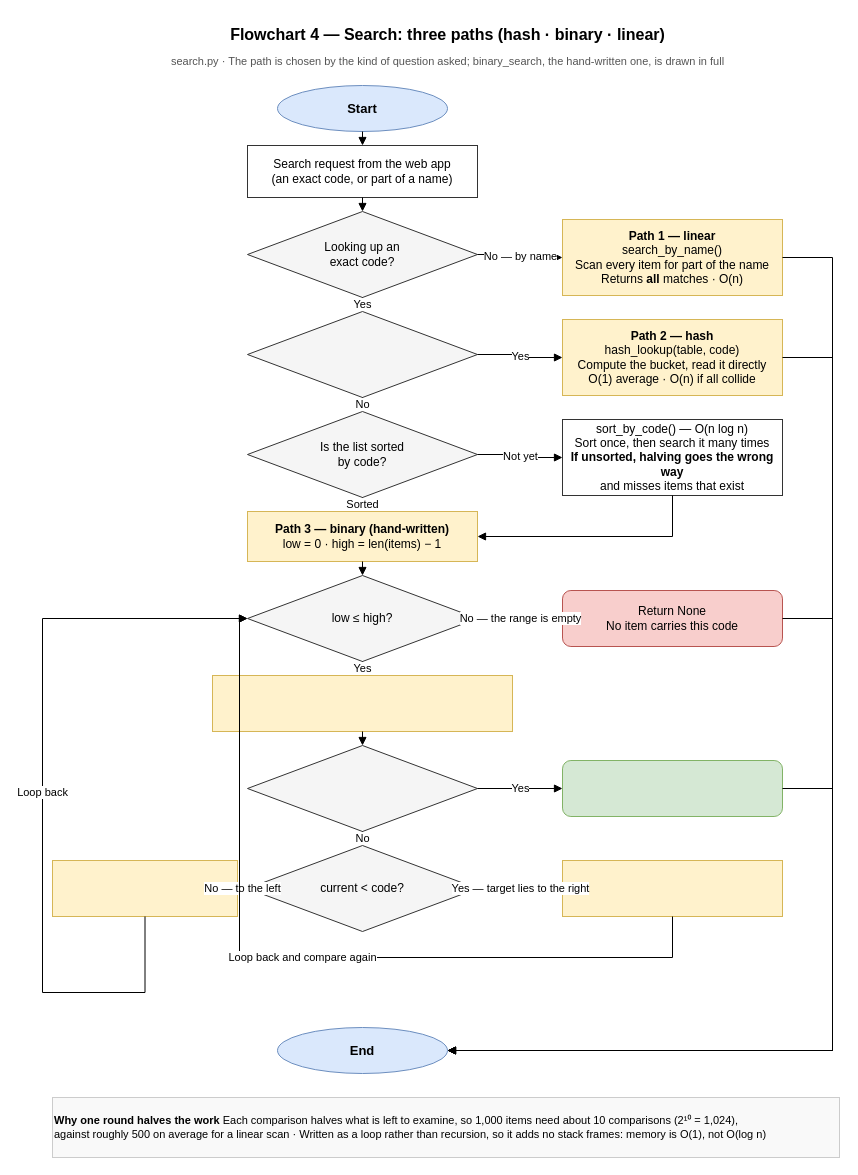
Some shapes in this 858 by 1175 pixel diagram are drawn without their labels. The box of each missing label's shape, as (x1, y1, x2, y2) in pixels:
current == code?: (246, 744, 478, 832)
high = middle − 1 Discard the whole right half: (52, 860, 238, 916)
Is a hash table available?: (246, 310, 478, 398)
low = middle + 1 Discard the whole left half: (562, 860, 782, 916)
middle = low + (high − low) // 2 current = items[middle]["code"]: (212, 674, 512, 732)
Return items[middle] Found: (562, 760, 782, 816)
